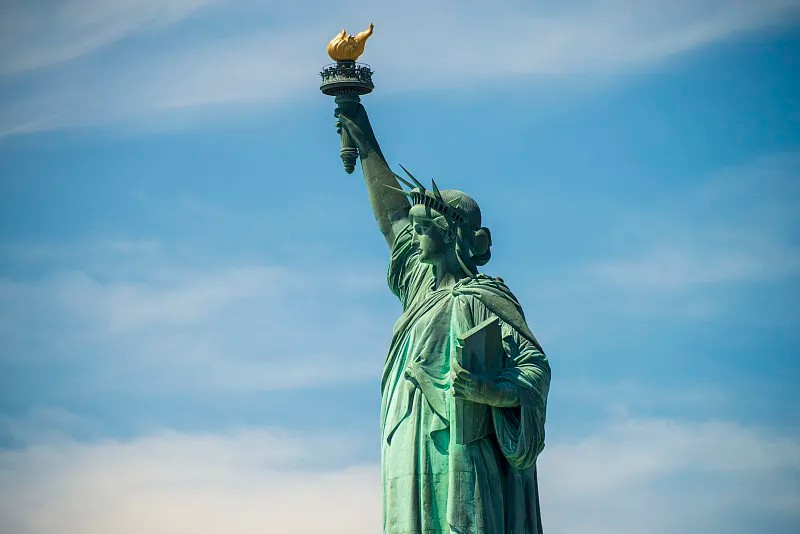SL: (319, 23, 552, 534)
